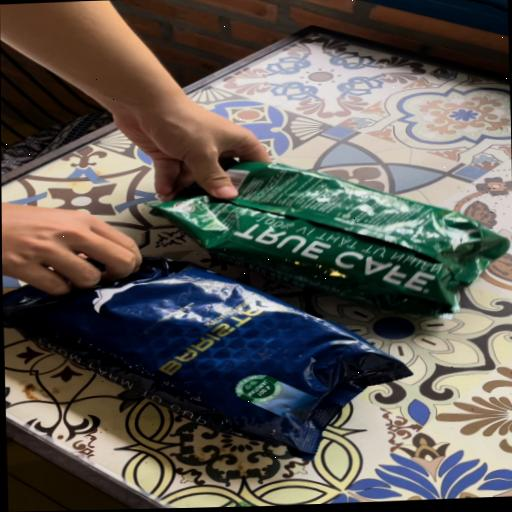cafe_hat: (3, 257, 413, 459)
cafe_xay: (148, 160, 510, 316)
